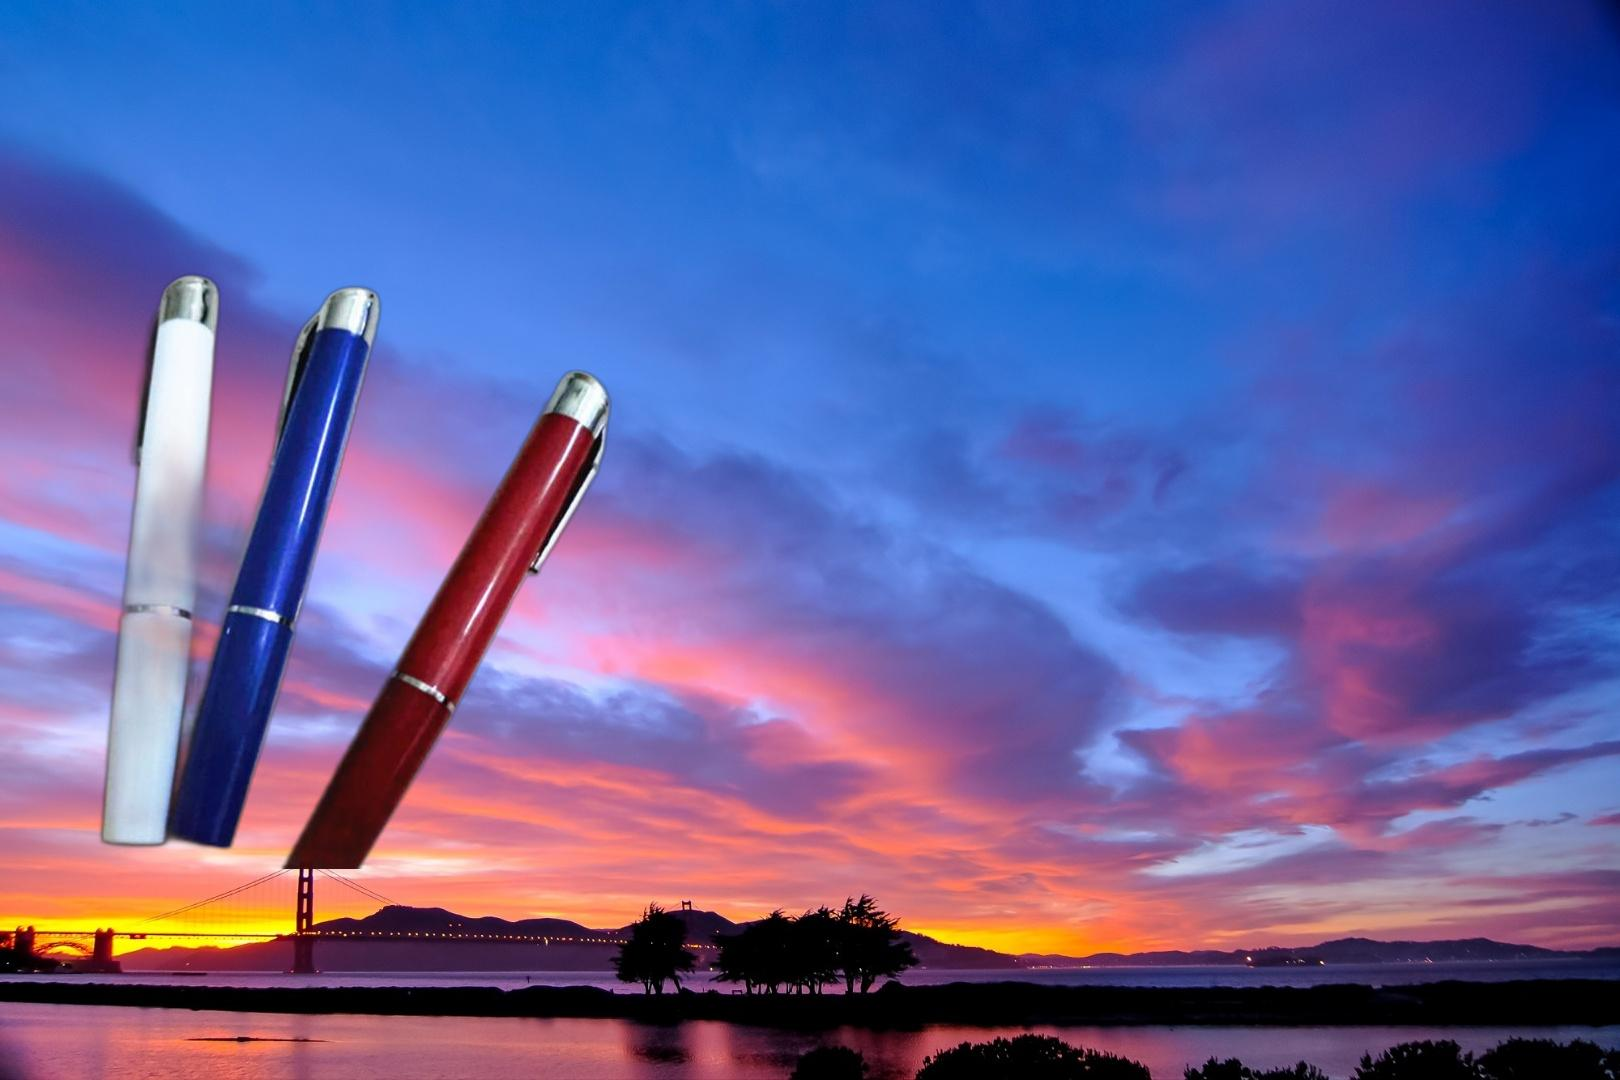penholder: (95, 269, 616, 869)
